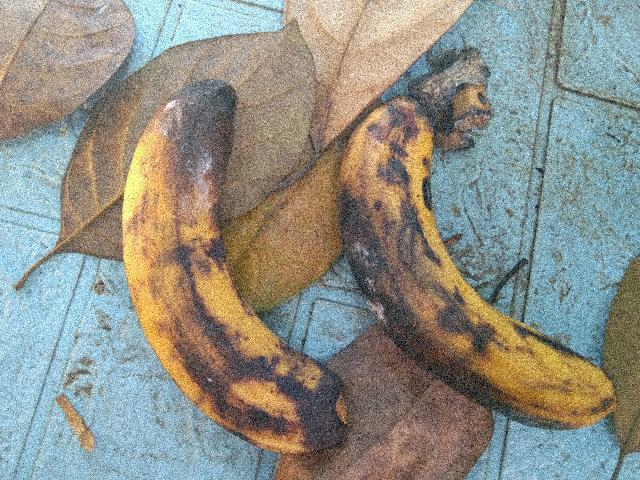rotten: (337, 91, 627, 439), (94, 74, 343, 479)
